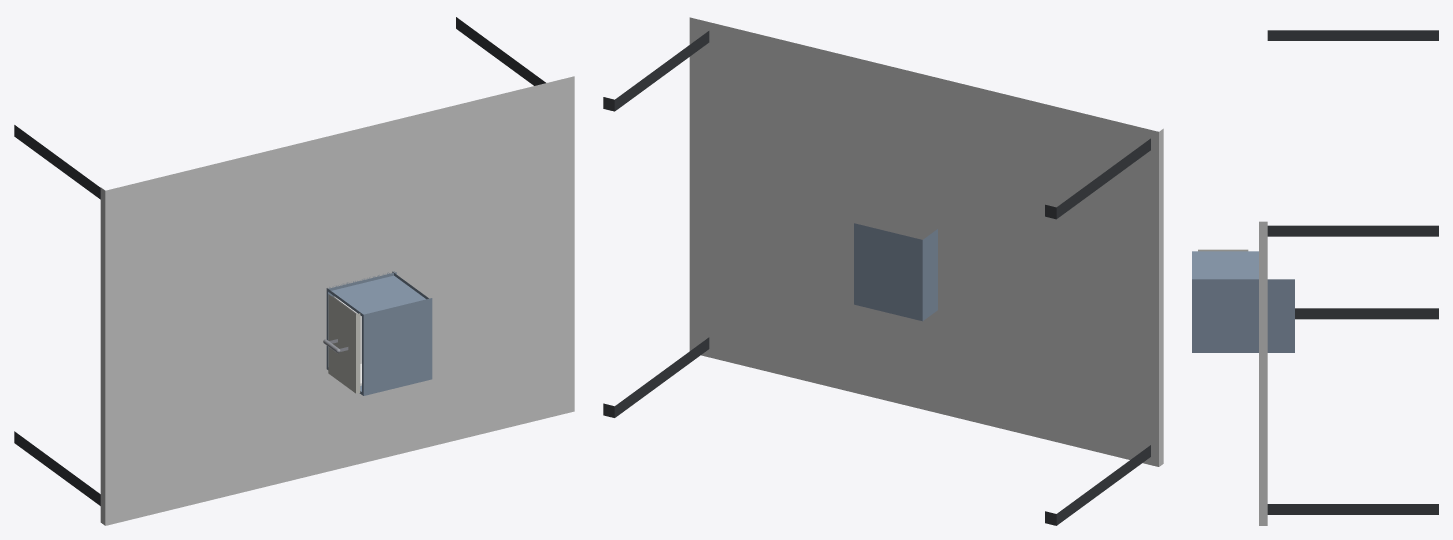
The picture shows the model from 3 angles, left to right: view 1: azimuth 30°, elevation 25°; view 2: azimuth 150°, elevation 25°; view 3: azimuth 270°, elevation 25°; orthographic projection. The views are drawn at different scales.
Parts seen in each view (by area): view 1: s0, s1, s2; view 2: s0, s1; view 3: s0, s1.
Boxes of the visible parts, x1,y1,x2,y2 form: s0: (14, 17, 574, 525); s1: (326, 271, 432, 395); s2: (323, 294, 361, 393); s0: (603, 17, 1163, 525); s1: (854, 223, 937, 321); s0: (1259, 30, 1438, 525); s1: (1192, 251, 1294, 352).
Bounding box in the file's own units: 2.05 × 1.4 × 1.03.
